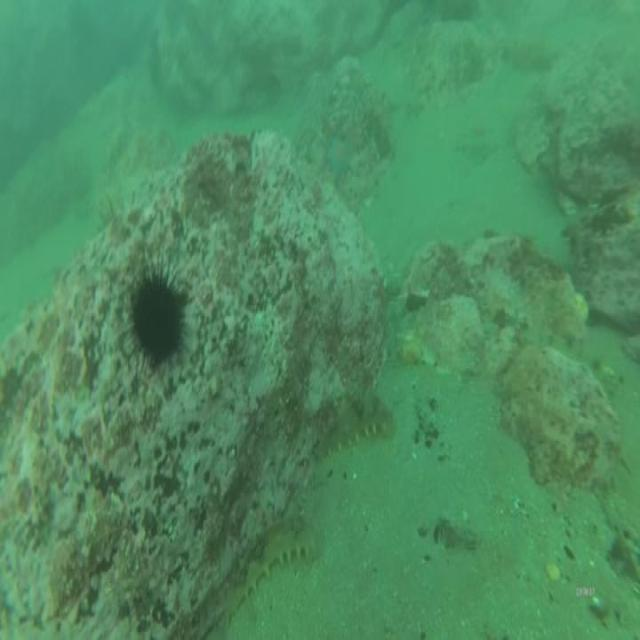echinus: (131, 267, 185, 371)
holothurian: (220, 515, 324, 620), (311, 395, 397, 460)
starfish: (325, 136, 354, 182)
